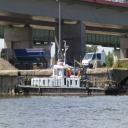tugboat: (16, 59, 121, 100)
